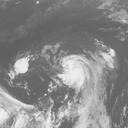cyclone: (59, 54, 94, 90)
